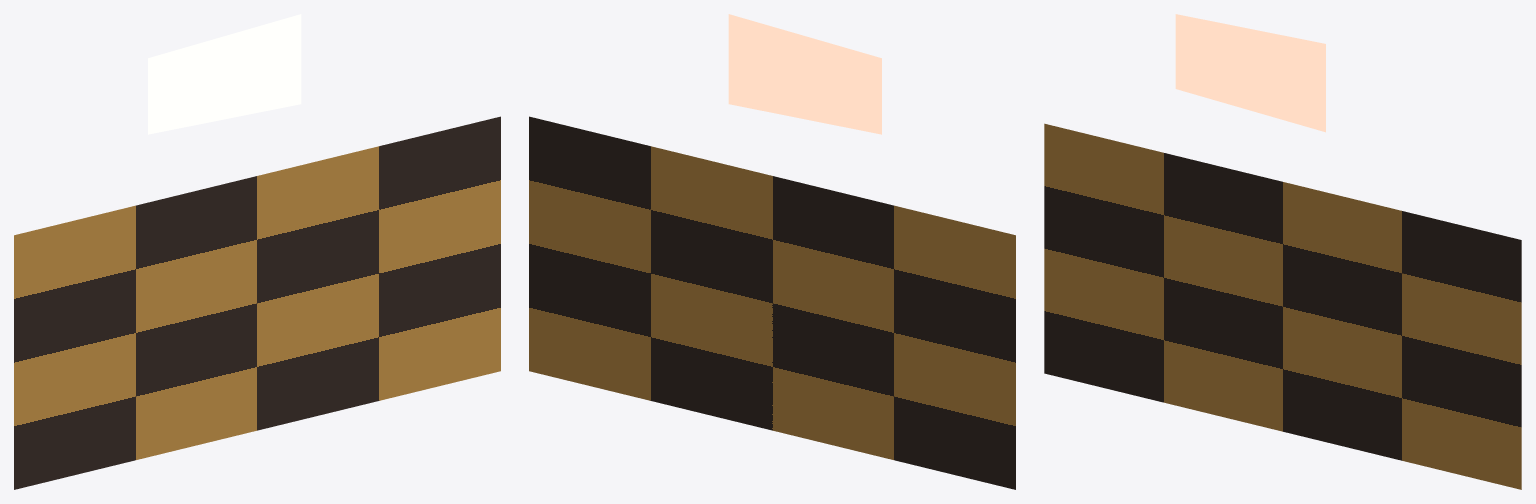
File: robot.gltf
3 views of the same model, side by side, from view 1: azimuth 30°, elevation 25°; view 2: azimuth 150°, elevation 25°; view 3: azimuth 330°, elevation 25° (orthographic).
Visible parts, largest first — view 1: Body, Banner; view 2: Body, Banner; view 3: Body, Banner.
Boxes of the visible parts, <box> form: Body: <box>14,116,500,489</box>; Banner: <box>148,14,301,134</box>; Body: <box>529,116,1015,489</box>; Banner: <box>728,14,881,134</box>; Body: <box>1044,123,1521,489</box>; Banner: <box>1175,14,1325,132</box>.
Size of the model in its own units: 240 by 191 by 0.
2 materials, 1 textured.
